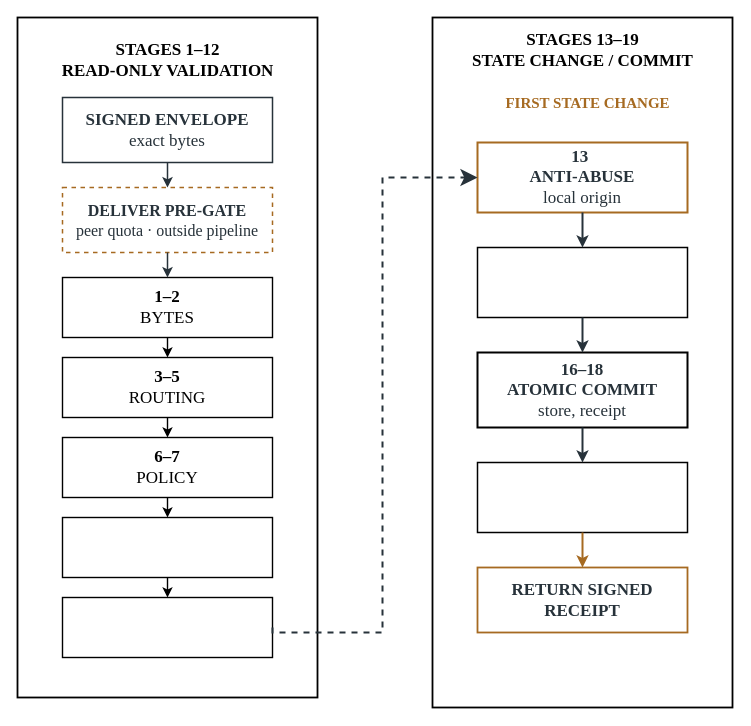
The diagram is 751 pixels wide and 726 high, and some of its shapes have lost their labels. Each missing label, with the centre of its shape:
"11–12 REPLAY" belongs at (167,627).
"14–15 · SEMANTICS authorize, validate" belongs at (582,282).
"19 · FANOUT outbox · events" belongs at (582,497).
"8–10 AUTH" belongs at (167,547).
